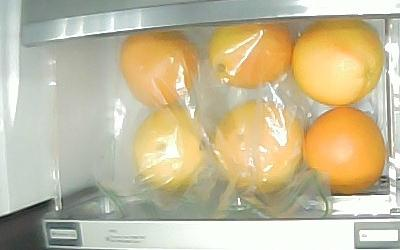grapefruit: (292, 17, 384, 106), (305, 106, 385, 195)
grapefruit_vinyl: (212, 99, 303, 191), (119, 31, 200, 109), (134, 109, 209, 193), (208, 21, 292, 89)
